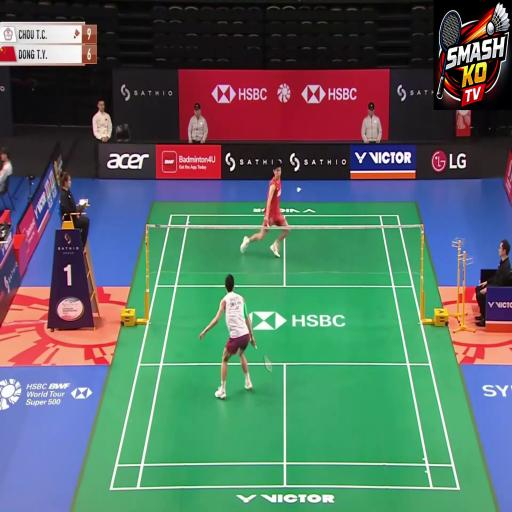player: (194, 248, 276, 427), (252, 126, 304, 291)
